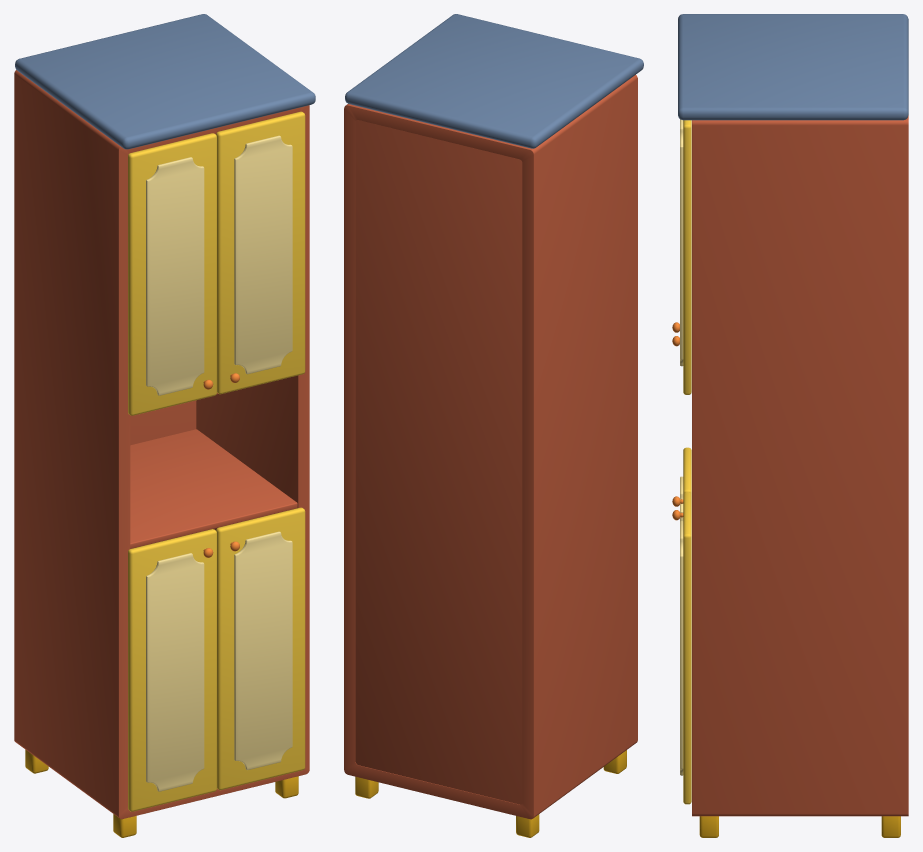
Rendered from paneleiro_classica.glb.
3 renders of one model, left to right at view 1: azimuth 30°, elevation 25°; view 2: azimuth 150°, elevation 25°; view 3: azimuth 270°, elevation 25°, orthographic. The views are drawn at different scales.
Parts seen in each view (by area): view 1: paneleiro_classica, porta_1, porta_4, porta_2, porta_3; view 2: paneleiro_classica; view 3: paneleiro_classica, porta_4, porta_2, porta_3.
Part boxes in pixels (left/top/right/bottom): paneleiro_classica: left=14, top=14, right=315, bottom=837; porta_1: left=128, top=133, right=216, bottom=415; porta_4: left=216, top=507, right=305, bottom=790; porta_2: left=216, top=111, right=305, bottom=394; porta_3: left=128, top=529, right=216, bottom=811; paneleiro_classica: left=344, top=14, right=643, bottom=837; paneleiro_classica: left=678, top=14, right=908, bottom=837; porta_4: left=672, top=492, right=691, bottom=804; porta_2: left=672, top=119, right=691, bottom=394; porta_3: left=672, top=447, right=691, bottom=521.
Size of the model in its own units: 0.598 by 2.1 by 0.6131.
1 material, 1 textured.
